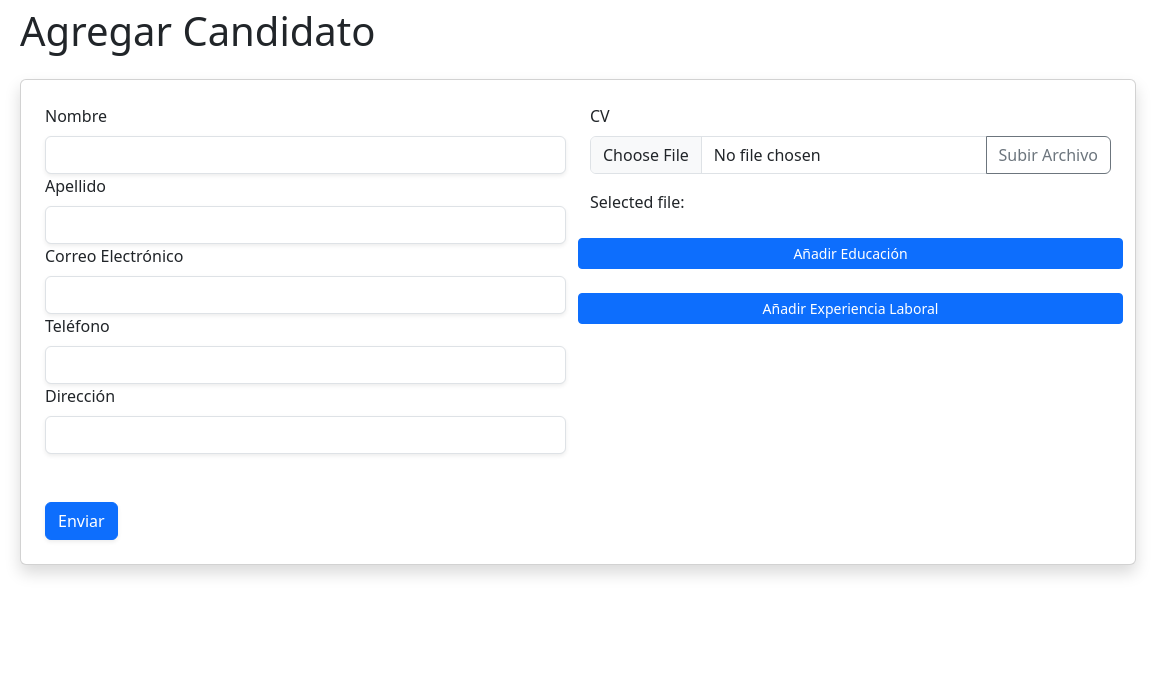
Scenario: AddCandidateForm Component › Envío del Formulario › debe_mostrar_error_si_respuesta_400
Type "Juan" into the field labelled "Nombre" at (306, 155), box [45,136,566,174]
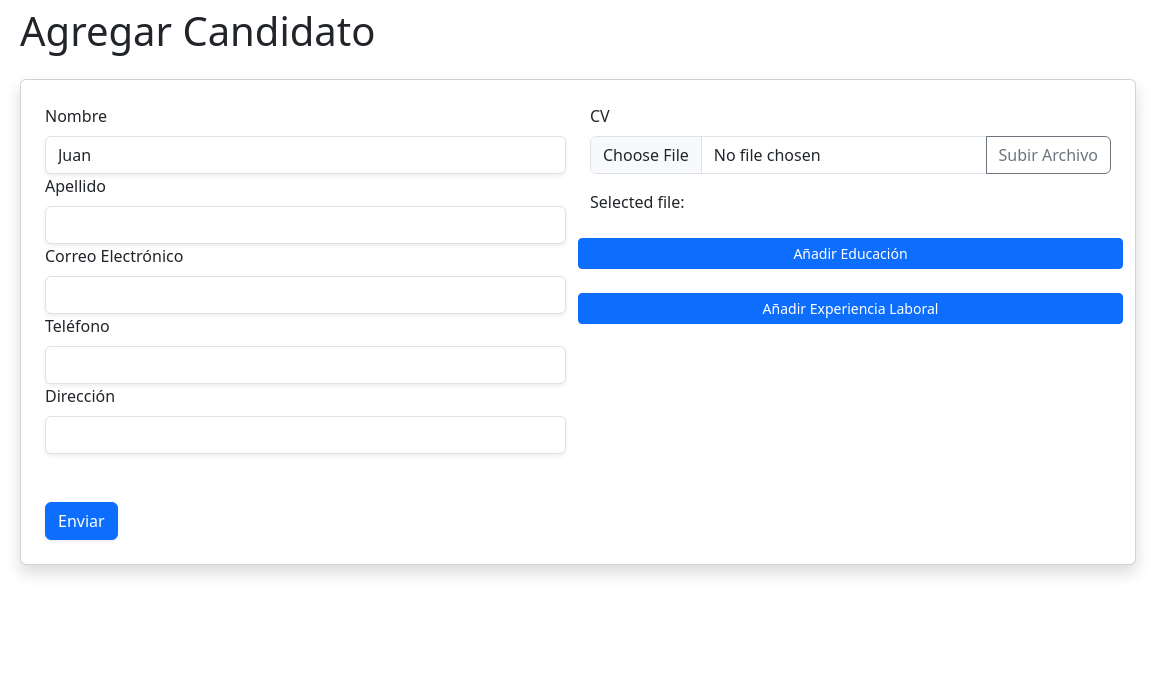
Type "Pérez" into the field labelled "Apellido" at (306, 225), box [45,206,566,244]
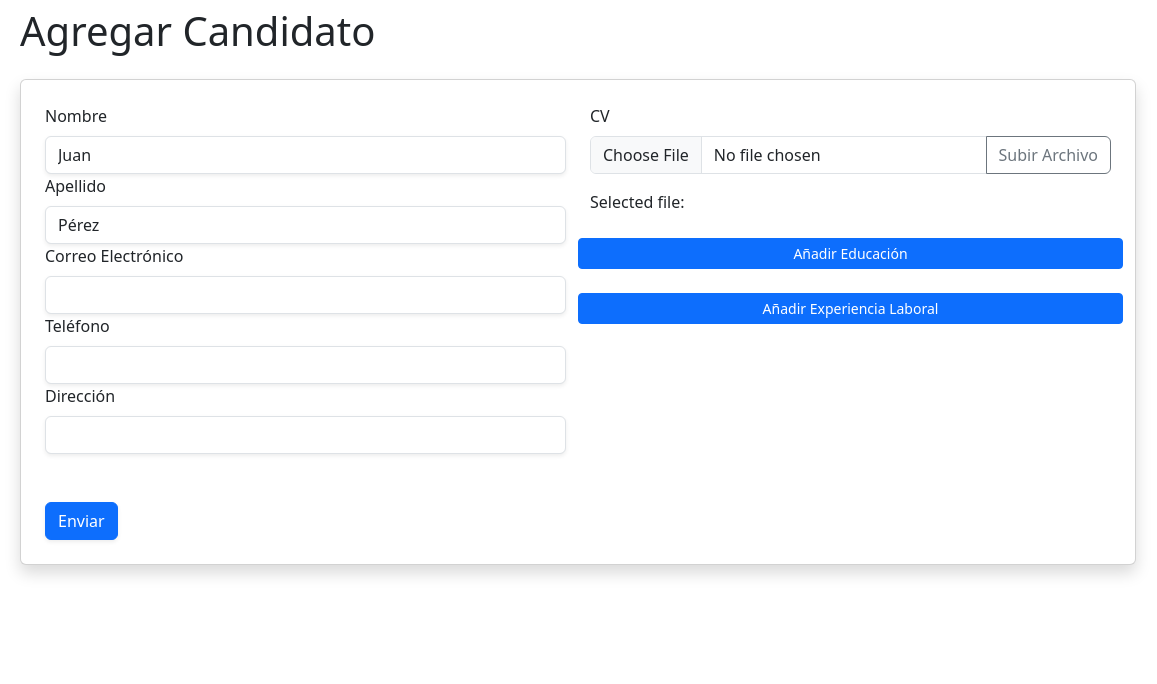
Type "juan@example.com" into the field labelled "Correo Electrónico" at (306, 295), box [45,276,566,314]
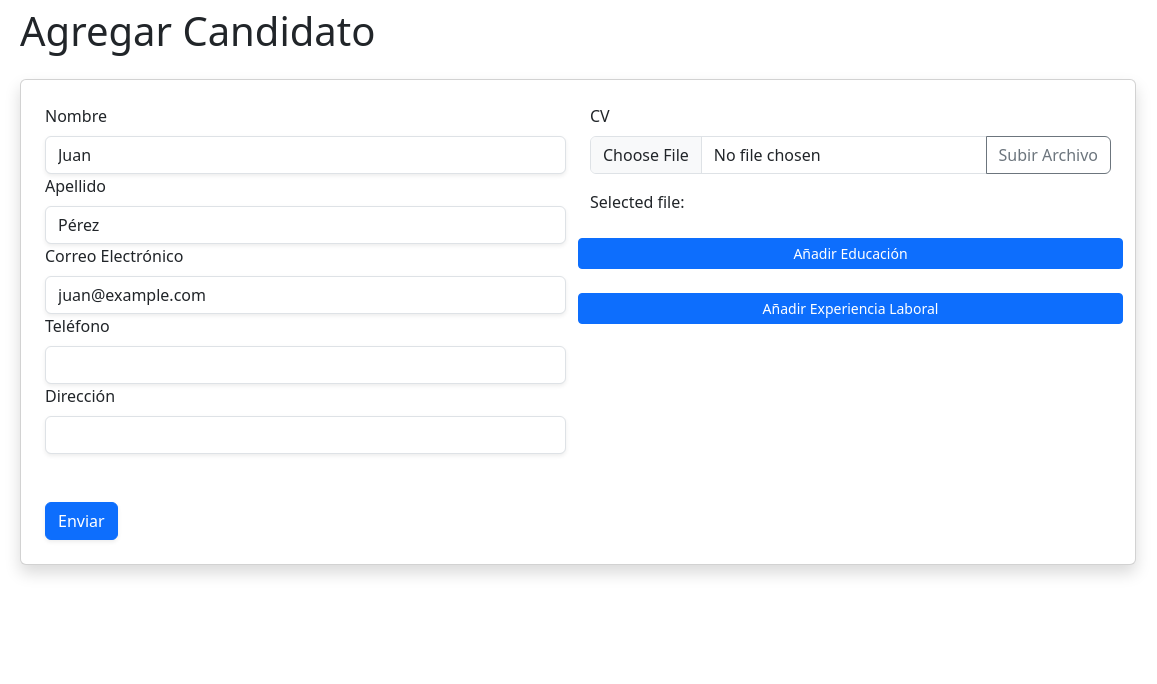
Click the button "Enviar" at (81, 521), box [45,502,118,540]
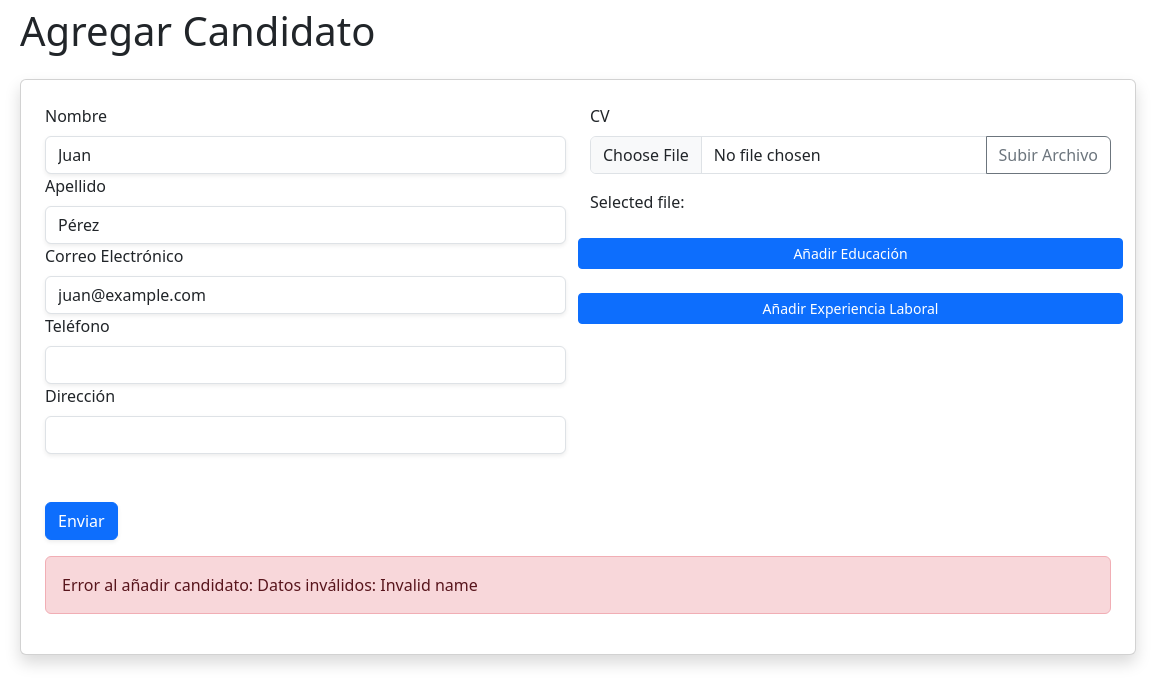
Expected: the text "Error al añadir candidato: Datos inválidos: Invalid name" is shown, [45,556,1111,614]
